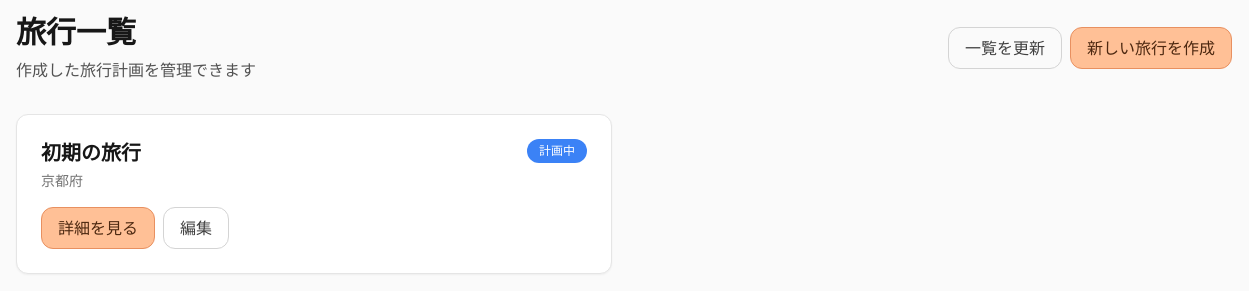
it: TravelListPage › 一覧更新 › 更新ボタンをクリックすると一覧が再取得される
The image size is (1249, 291).
Check: the heading "初期の旅行" is shown, box [41,139,141,167]
Click the button "一覧を更新". click: (1005, 48)
box: [948,27,1062,69]
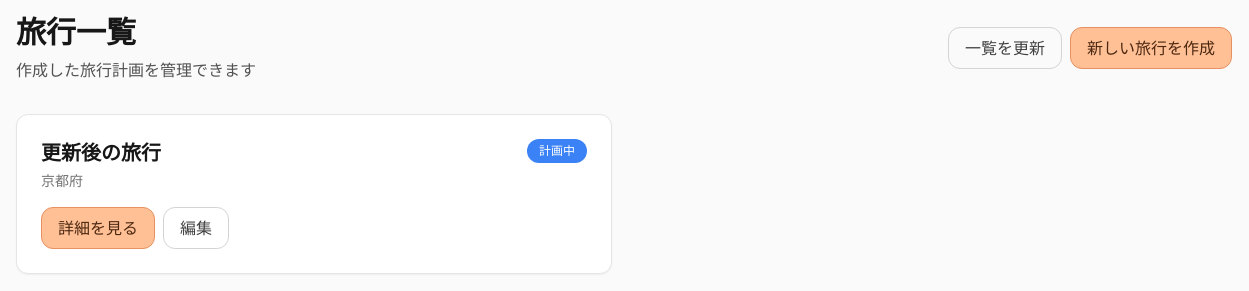
Check: the heading "更新後の旅行" is shown, box [41,139,161,167]
